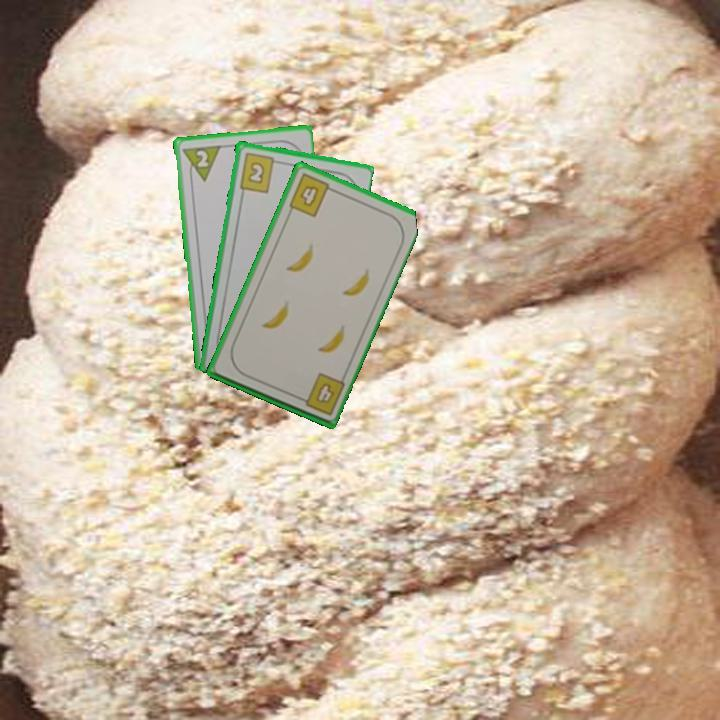2b: (236, 149, 282, 195)
2p: (178, 141, 223, 185)
4b: (285, 170, 338, 220), (293, 369, 347, 418)
